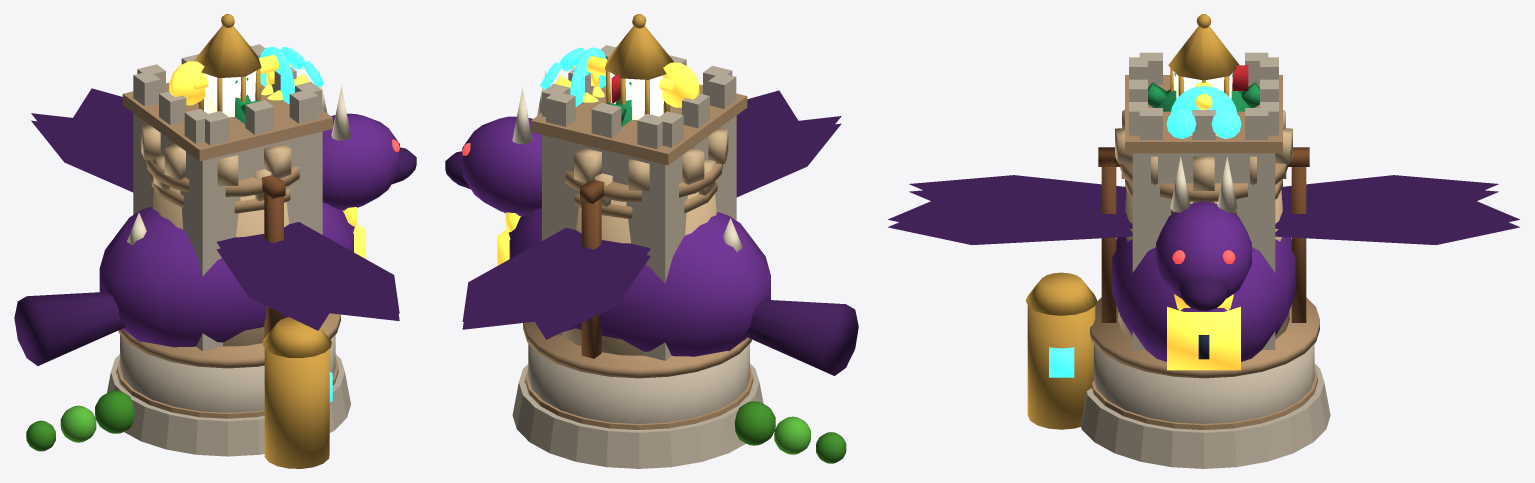
The model's file is units.glb.
3 renders of one model, left to right at view 1: azimuth 30°, elevation 25°; view 2: azimuth 150°, elevation 25°; view 3: azimuth 270°, elevation 25°, orthographic. The views are drawn at different scales.
Visible parts, largest first — view 1: Enemy_Dragon, Tower_Lock, Well_Backup, WingR.001, Tower_Guard, WingL.001, Head.001, Head.002, Seg3, Tower_TwoKeys, Seg4, Head.003 (+1 smaller); view 2: Tower_Lock, Enemy_Dragon, Well_Backup, WingL.001, Tower_Guard, WingR.001, Head.001, Head.002, Seg3, Tower_TwoKeys, Seg4, Head.003 (+1 smaller); view 3: Tower_Lock, Well_Backup, Enemy_Dragon, WingL.001, WingR.001, Tower_Guard, Head.001, Head.003, Head.004.
Part boxes in pixels (x1,y1,x2,y2): Enemy_Dragon: [14, 69, 416, 365]; Tower_Lock: [107, 44, 350, 456]; Well_Backup: [118, 175, 340, 468]; WingR.001: [216, 222, 399, 330]; Tower_Guard: [116, 125, 339, 419]; WingL.001: [31, 88, 133, 192]; Head.001: [194, 14, 294, 117]; Head.002: [169, 54, 278, 105]; Seg3: [95, 390, 134, 433]; Tower_TwoKeys: [151, 155, 290, 213]; Seg4: [60, 405, 96, 442]; Head.003: [261, 47, 323, 100]; Tower_Lock: [512, 45, 763, 468]; Enemy_Dragon: [445, 71, 858, 375]; Well_Backup: [523, 180, 751, 423]; WingL.001: [462, 227, 650, 339]; Tower_Guard: [524, 74, 753, 430]; WingR.001: [736, 90, 841, 197]; Head.001: [570, 14, 673, 119]; Head.002: [586, 56, 699, 107]; Seg3: [734, 401, 775, 445]; Tower_TwoKeys: [575, 159, 717, 218]; Seg4: [774, 416, 810, 454]; Head.003: [540, 47, 604, 102]; Tower_Lock: [1081, 52, 1330, 468]; Well_Backup: [1025, 147, 1319, 429]; Enemy_Dragon: [1112, 156, 1295, 370]; WingL.001: [1275, 175, 1519, 244]; WingR.001: [888, 175, 1132, 244]; Tower_Guard: [1115, 65, 1318, 420]; Head.001: [1168, 14, 1239, 113]; Head.003: [1166, 109, 1241, 138]; Head.004: [1148, 73, 1259, 111].
Bounding box in the file's own units: 4.33 × 4.51 × 6.
